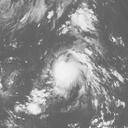cyclone: (49, 49, 91, 100)
